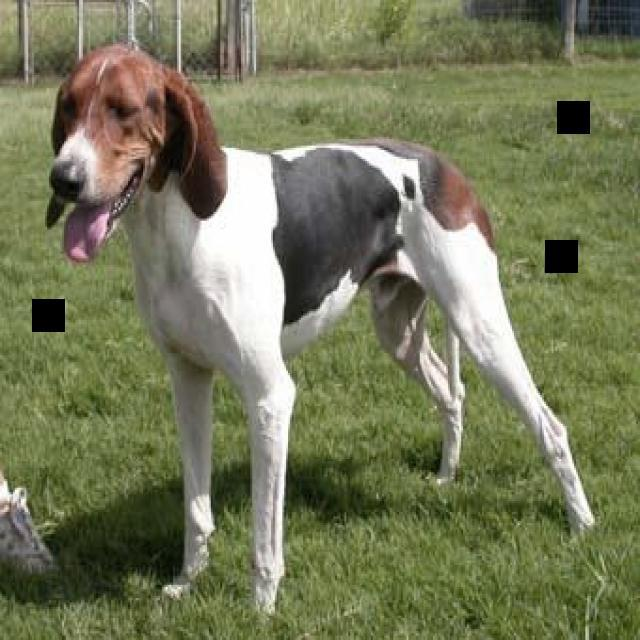adult_dog: (45, 38, 593, 613)
